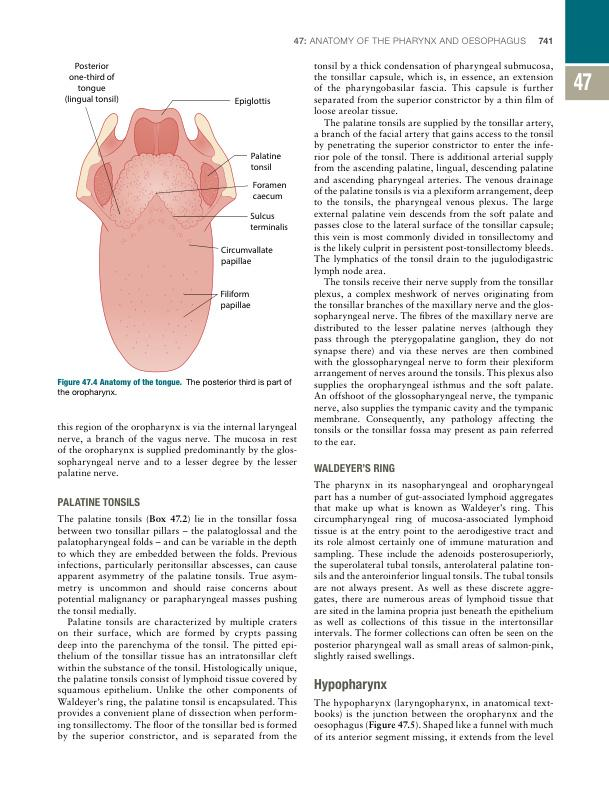caption: (56, 377, 293, 398)
header: (292, 35, 528, 46)
image: (54, 51, 295, 375)
sub-section-heading: (313, 677, 388, 692), (312, 462, 396, 474), (56, 496, 141, 507)
text: (312, 60, 554, 446), (56, 513, 299, 743), (312, 479, 555, 663), (56, 421, 298, 481), (312, 697, 554, 744)
